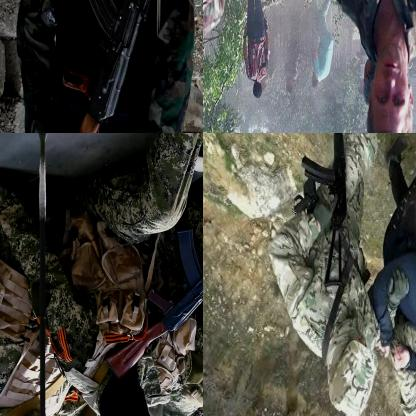pistol: (291, 173, 323, 217)
rifle: (102, 165, 202, 383), (43, 0, 167, 132), (300, 133, 349, 293), (356, 0, 415, 116)
